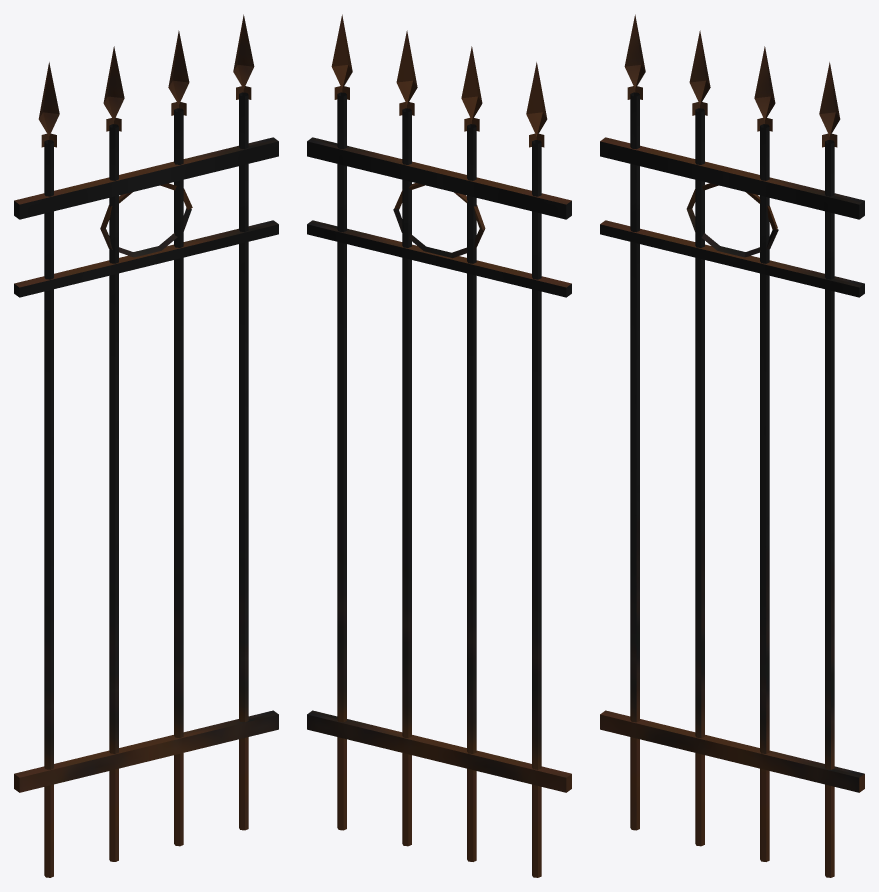
File: pr_fence.glb
3 views of the same model, side by side, from view 1: azimuth 30°, elevation 25°; view 2: azimuth 150°, elevation 25°; view 3: azimuth 330°, elevation 25° (orthographic).
Visible parts, largest first — view 1: pr_fence; view 2: pr_fence; view 3: pr_fence.
Part boxes in pixels (x1,y1,x2,y2): pr_fence: (14, 14, 278, 877); pr_fence: (307, 14, 571, 877); pr_fence: (600, 14, 864, 877).
Bounding box in the file's own units: 0.54 × 1.62 × 0.044.
Materials: 1 (1 with a texture image).
